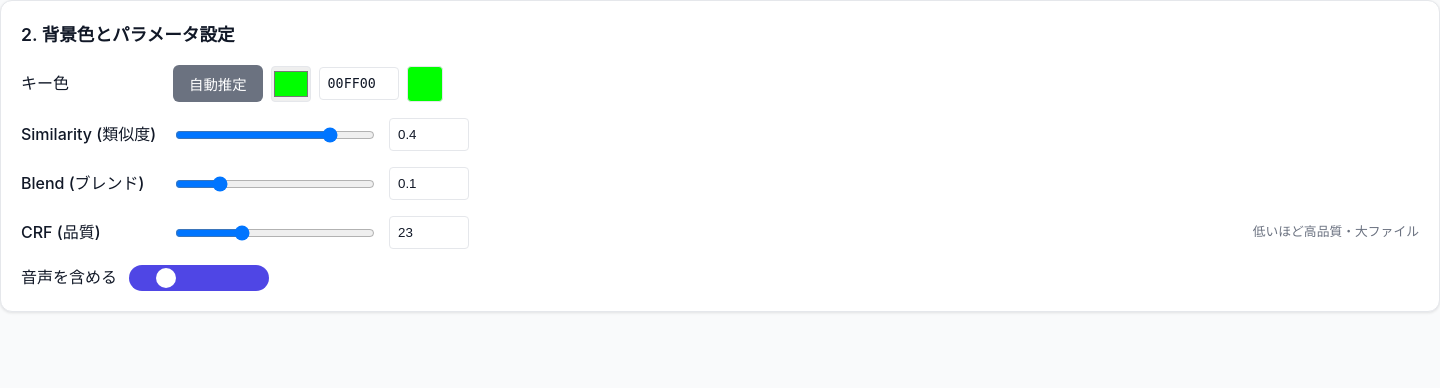
KeySettings › auto estimate › shows error message on estimation failure
The image size is (1440, 388).
Click the button "自動推定".
click(218, 84)  # box left=173, top=65, right=263, bottom=102
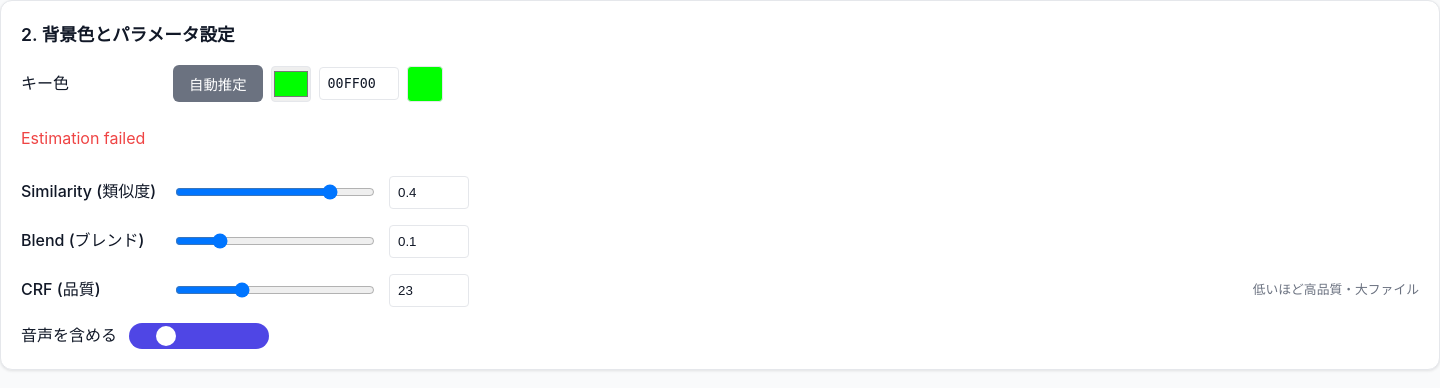
Now the text "Estimation failed" is shown, box left=21, top=128, right=145, bottom=148
